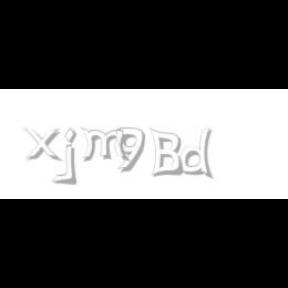9: (116, 128, 146, 172)
B: (149, 128, 183, 178)
d: (180, 128, 216, 180)
j: (62, 128, 90, 186)
m: (79, 128, 131, 162)
x: (23, 128, 65, 162)
